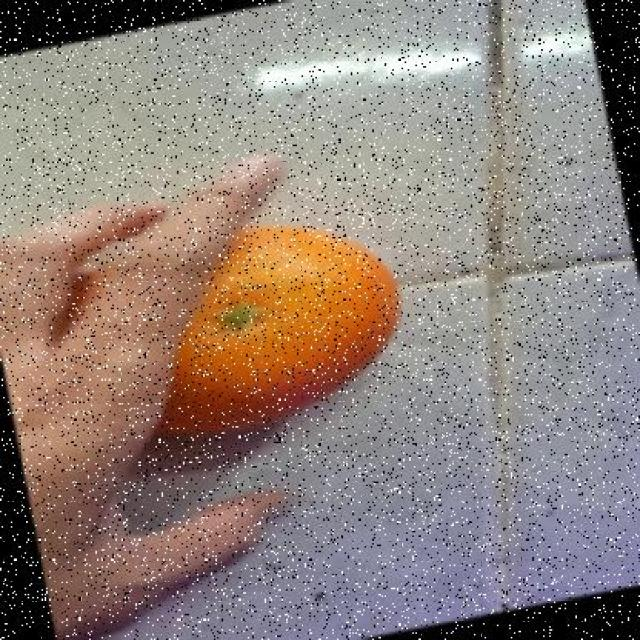Orange: (162, 222, 400, 438)
